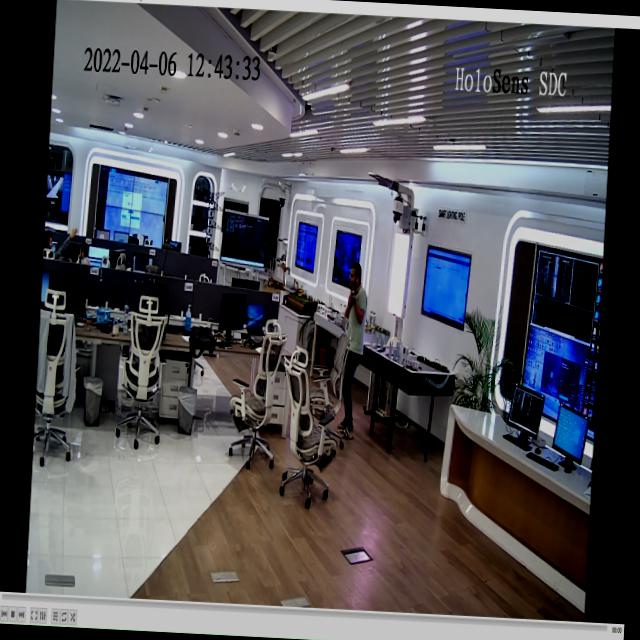long weapon: (347, 282, 360, 311)
